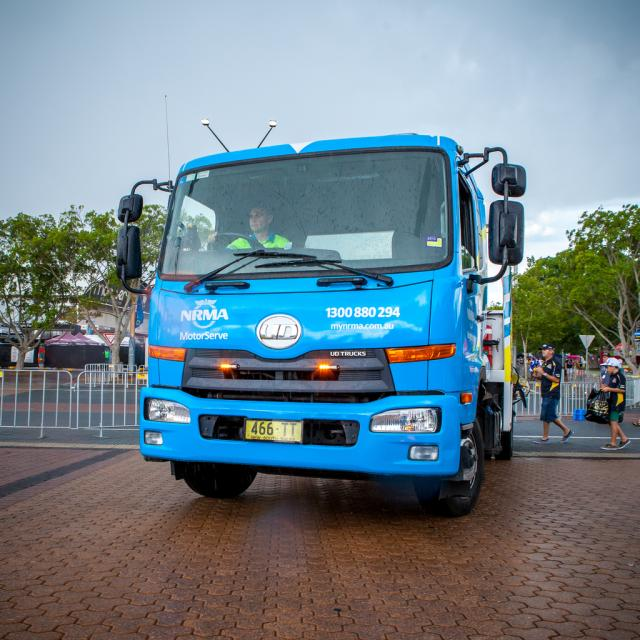Heavy Duty Truck: (114, 128, 529, 510)
